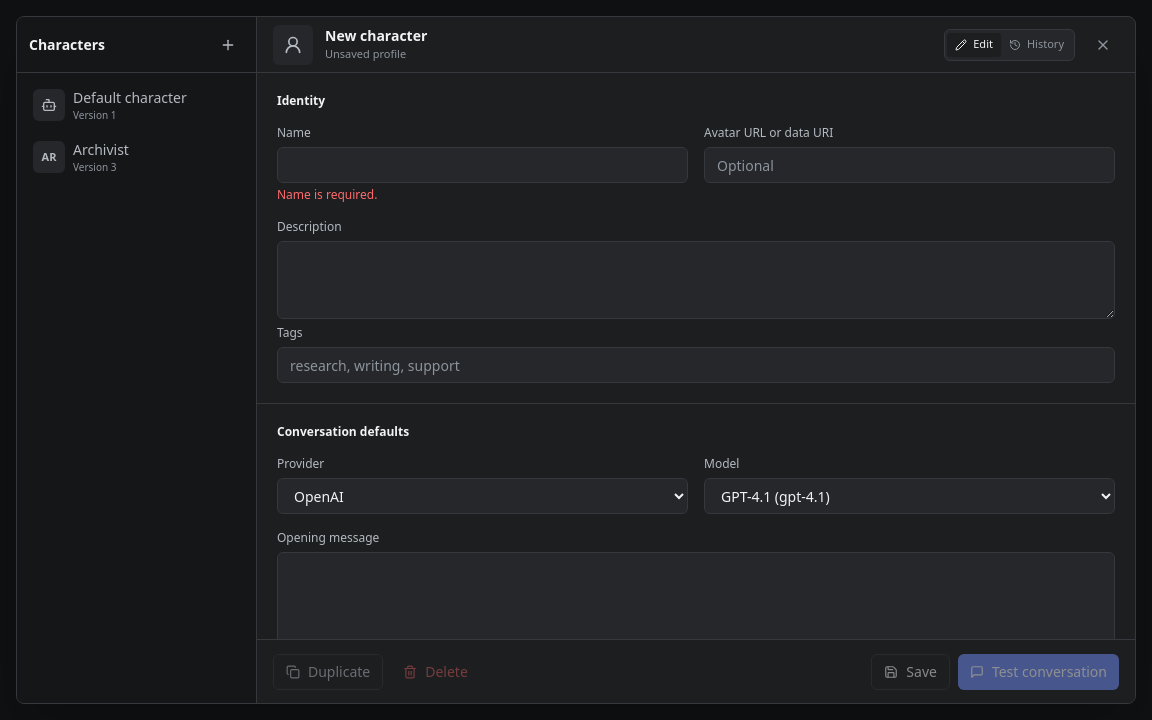
Test: CharacterManager › blocks a duplicate name before it reaches the API
This screenshot has width=1152, height=720.
Type "ARCHIVIST" into the field with id "character-name" at [482, 165], box [277,147,688,183]
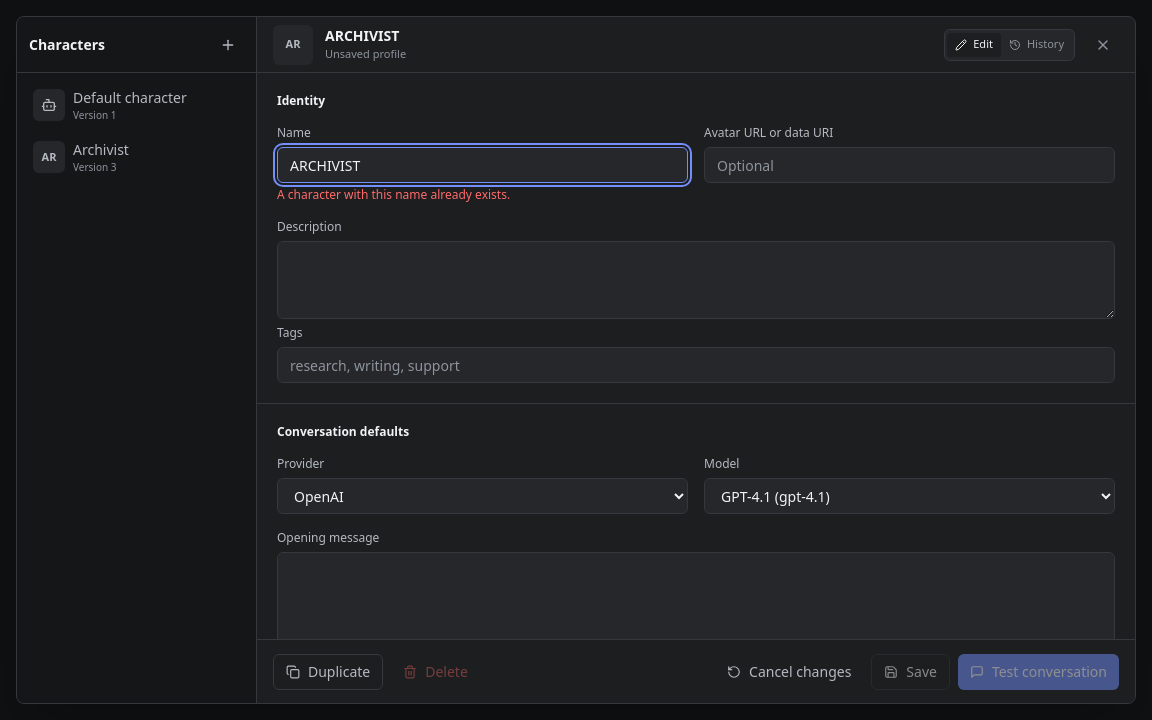
Expected: the button "Save" is disabled, [871,654,950,690]
Now the text "A character with this name already exists." is shown, box [277,186,510,203]
